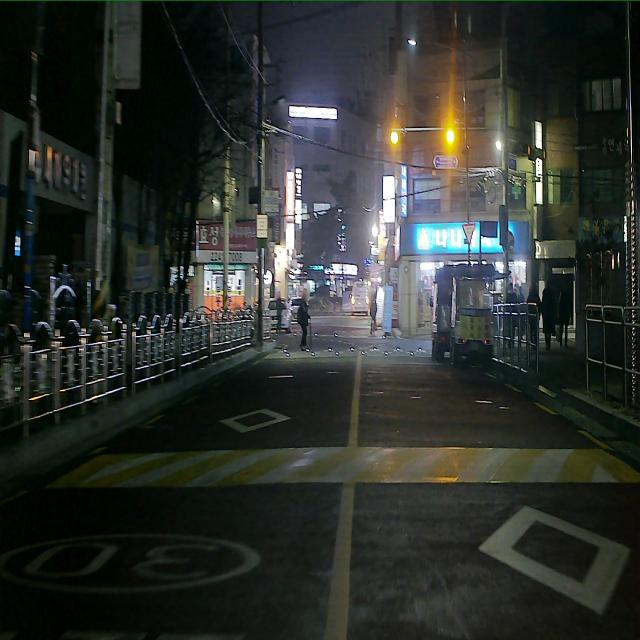Yellow Light: (390, 130, 399, 146), (446, 128, 454, 144)
